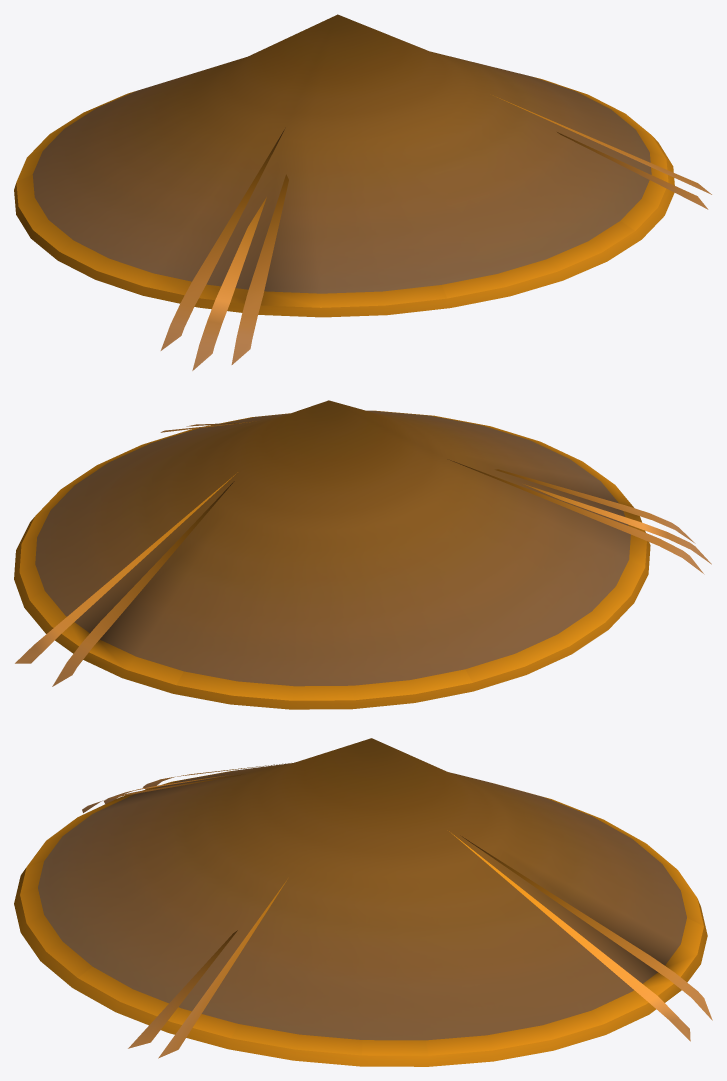
File: Cap_Cane_Cone_Hat.gltf
The picture shows the model from 3 angles, top to bottom: view 1: azimuth 30°, elevation 25°; view 2: azimuth 150°, elevation 25°; view 3: azimuth 270°, elevation 25°; orthographic projection. The views are drawn at different scales.
Parts seen in each view (by area): view 1: Cap_Cane_Cone_Hat; view 2: Cap_Cane_Cone_Hat; view 3: Cap_Cane_Cone_Hat.
Boxes of the visible parts, box(x1,y1,x2,y2) form: Cap_Cane_Cone_Hat: box(14, 14, 711, 370); Cap_Cane_Cone_Hat: box(14, 400, 711, 709); Cap_Cane_Cone_Hat: box(14, 738, 712, 1066).
Bounding box in the file's own units: 1.25 × 0.4365 × 1.26.
2 materials, 2 textured.
